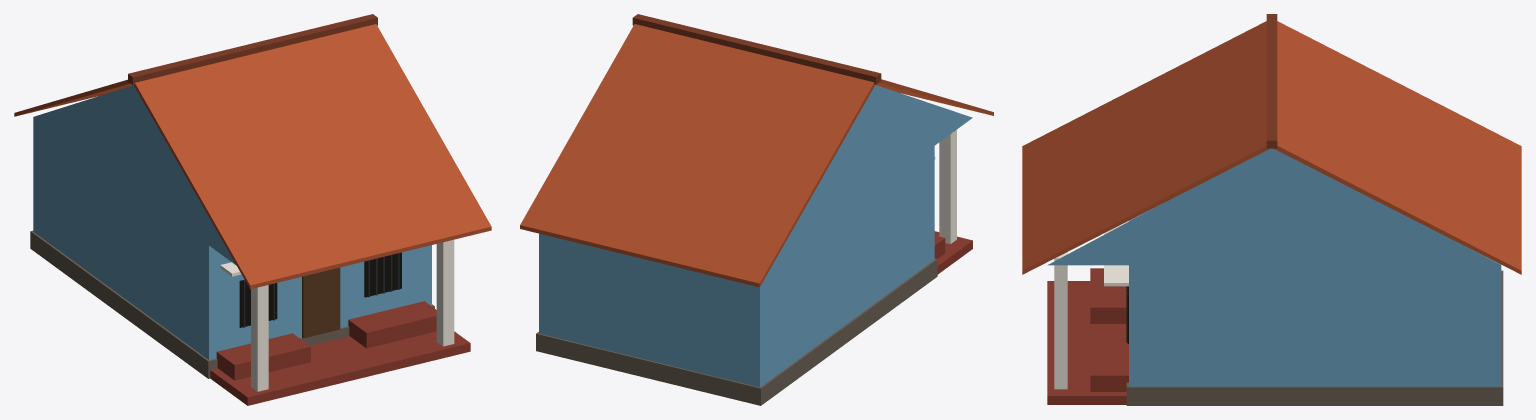
Rendered from bld_ot_house_01.glb.
3 renders of one model, left to right at view 1: azimuth 30°, elevation 25°; view 2: azimuth 150°, elevation 25°; view 3: azimuth 270°, elevation 25°, orthographic. The views are drawn at different scales.
Visible parts, largest first — view 1: bld_ot_house_01; view 2: bld_ot_house_01; view 3: bld_ot_house_01.
Part boxes in pixels (x1,y1,x2,y2): bld_ot_house_01: [14, 14, 491, 405]; bld_ot_house_01: [520, 14, 993, 405]; bld_ot_house_01: [1022, 14, 1521, 405].
Size of what is drawn, in the model's own units: 6.6 by 6.57 by 11.
